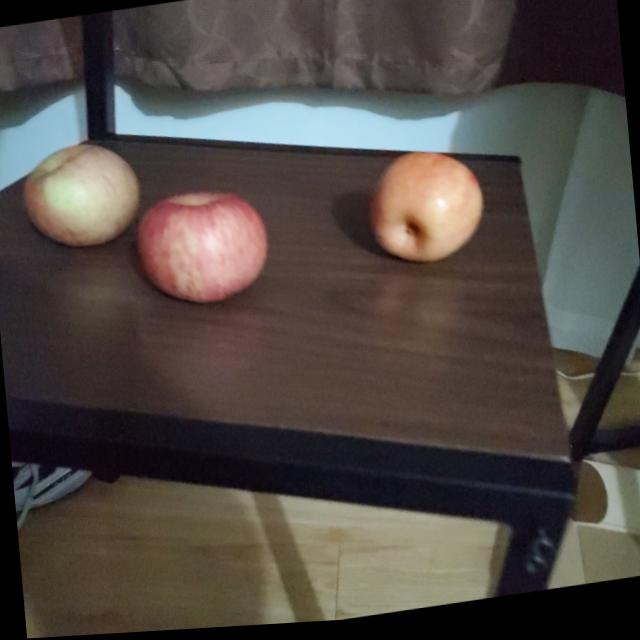apple: (135, 183, 272, 309), (366, 149, 488, 275), (18, 139, 142, 253)
